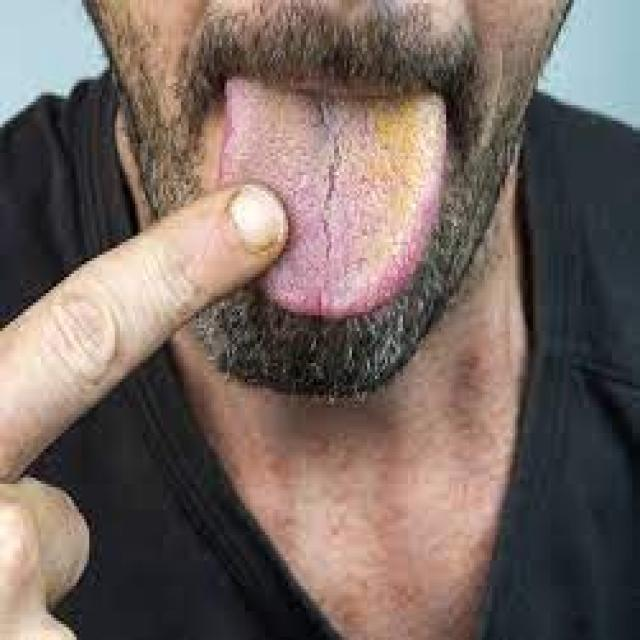discolored_patch: (216, 73, 448, 322)
